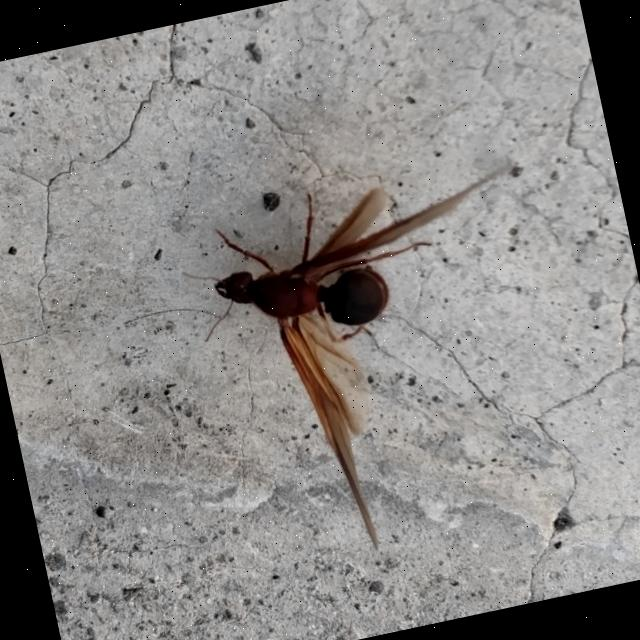Alive-Female-Alate: (170, 150, 584, 578)
